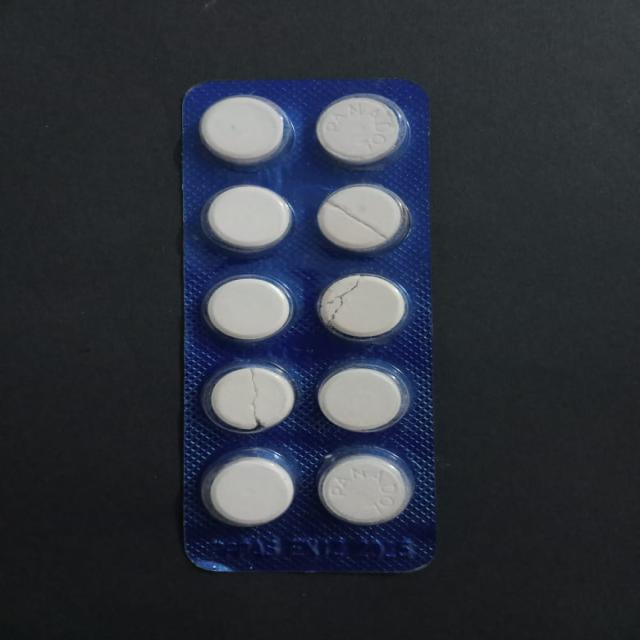defect: (200, 360, 298, 436), (314, 181, 412, 256), (315, 270, 414, 344)
